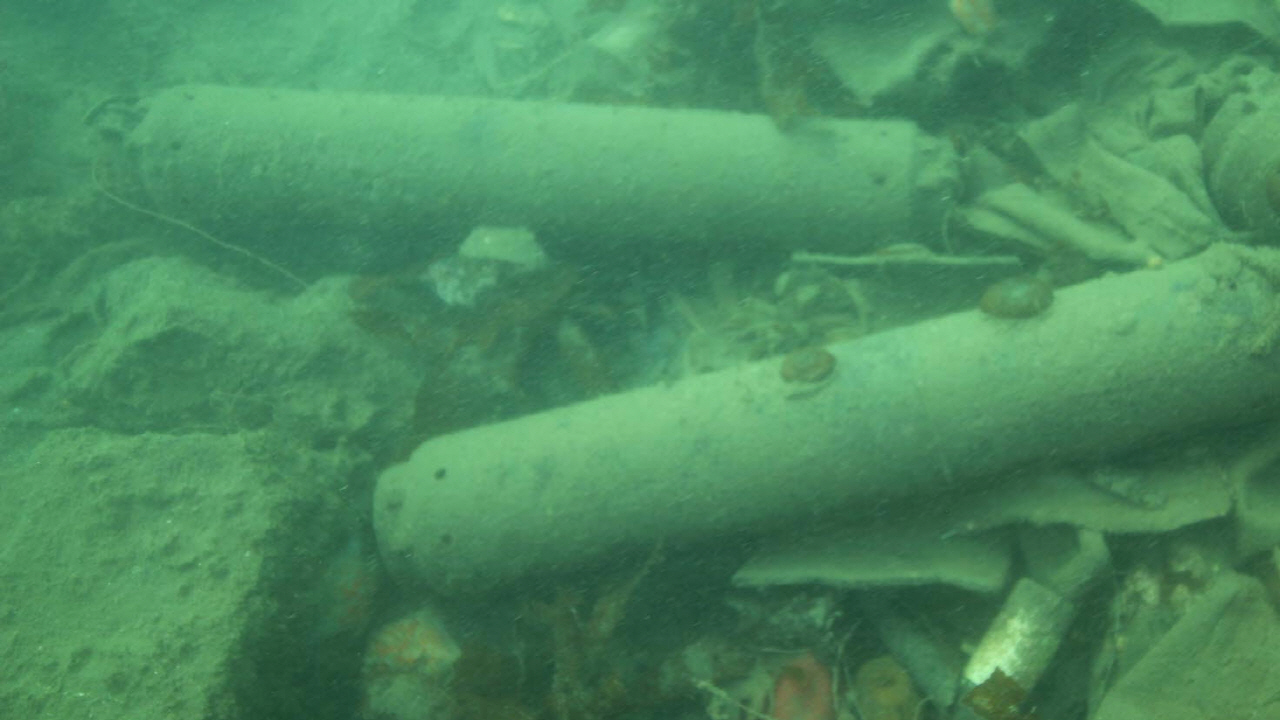eel fish trap: (372, 245, 1280, 592), (131, 81, 962, 243)
